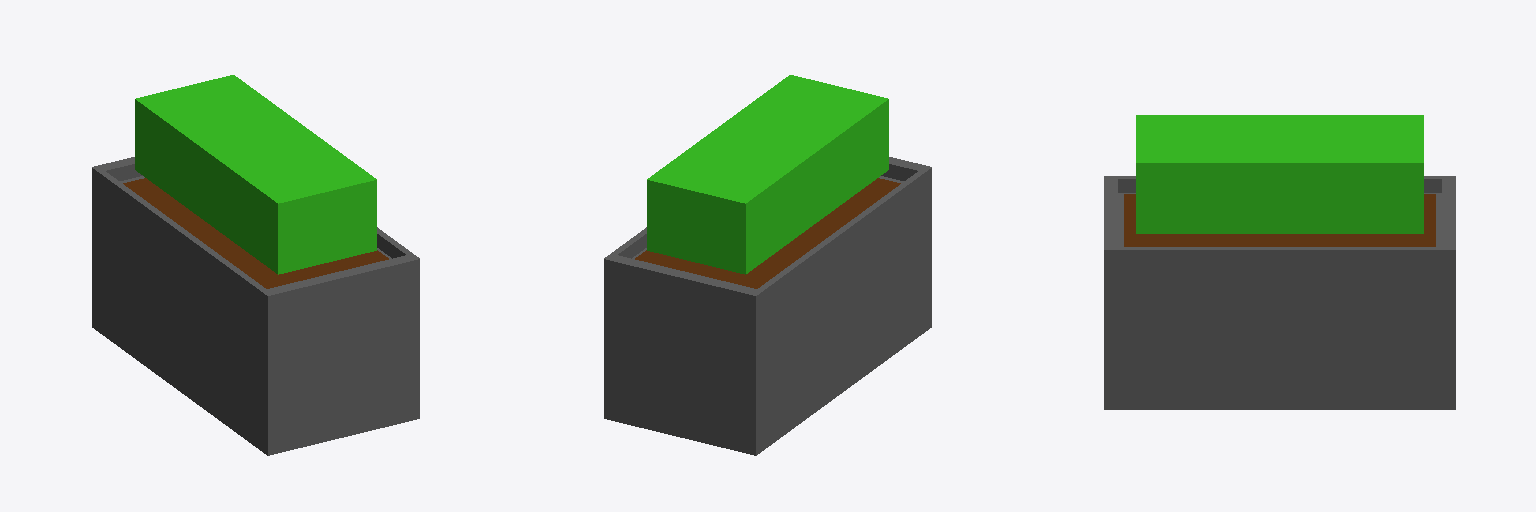
File: simplePotHedge.obj
3 views of the same model, side by side, from view 1: azimuth 30°, elevation 25°; view 2: azimuth 150°, elevation 25°; view 3: azimuth 270°, elevation 25° (orthographic).
Parts seen in each view (by area): view 1: Hedge1_Cube.010; view 2: Hedge1_Cube.010; view 3: Hedge1_Cube.010.
Boxes of the visible parts, x1=… form: Hedge1_Cube.010: x1=92, y1=75, x2=419, y2=455; Hedge1_Cube.010: x1=604, y1=75, x2=931, y2=455; Hedge1_Cube.010: x1=1104, y1=115, x2=1455, y2=409.
Bounding box in the file's own units: 0.25 × 0.3656 × 0.5.